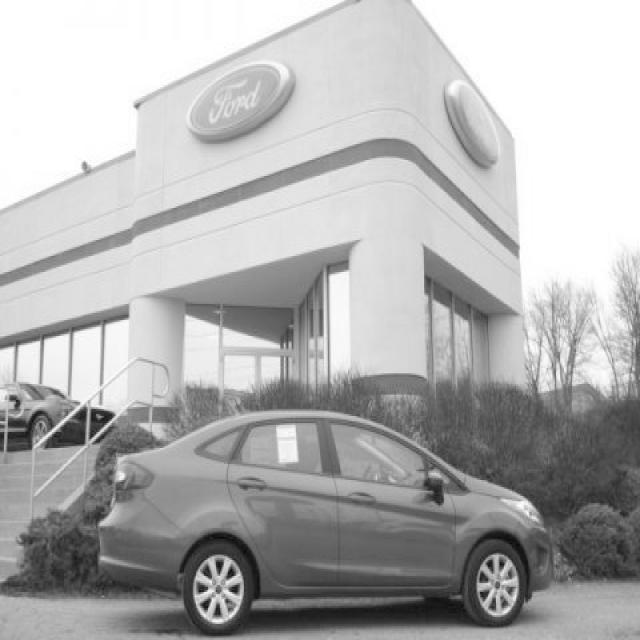car: (96, 407, 553, 635), (0, 378, 117, 449)
